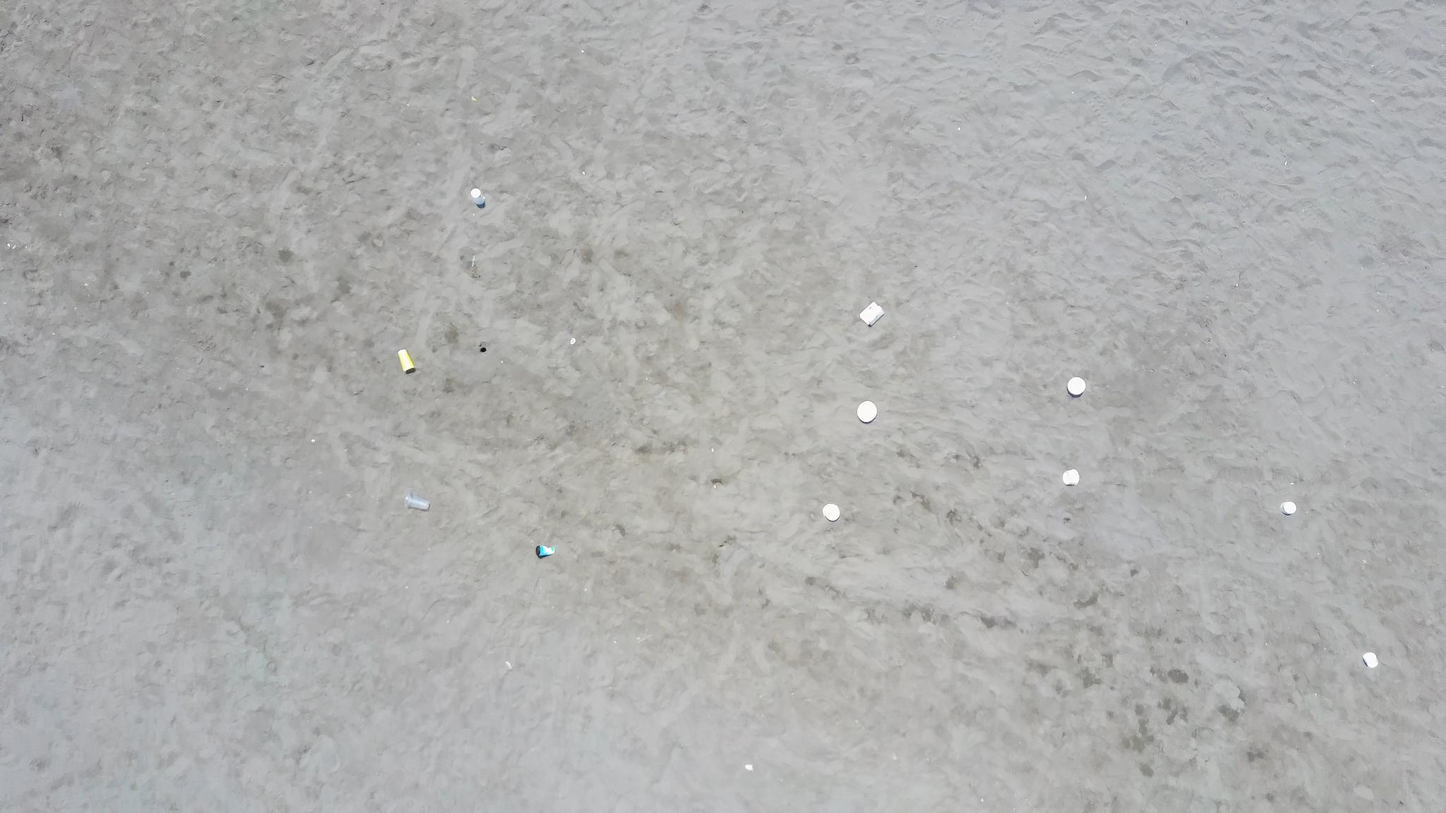Garbage: (859, 302, 884, 325), (405, 489, 429, 510), (856, 401, 877, 421), (1066, 376, 1085, 397), (397, 349, 412, 372), (470, 187, 485, 207), (823, 502, 839, 520), (1362, 651, 1378, 668), (536, 543, 554, 557), (1062, 469, 1077, 484), (1279, 501, 1296, 514), (479, 344, 486, 353), (504, 661, 511, 669), (569, 337, 575, 345), (745, 764, 753, 770), (470, 96, 477, 102)
